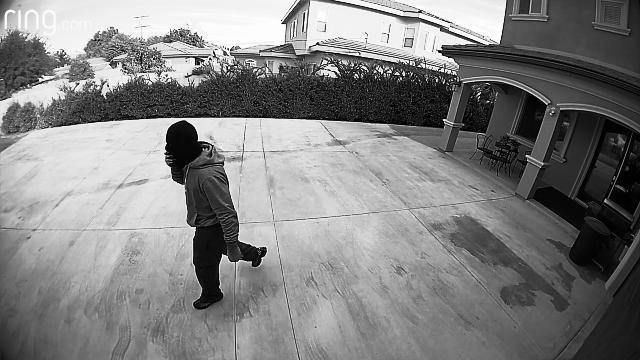berjalan: (155, 120, 269, 308)
